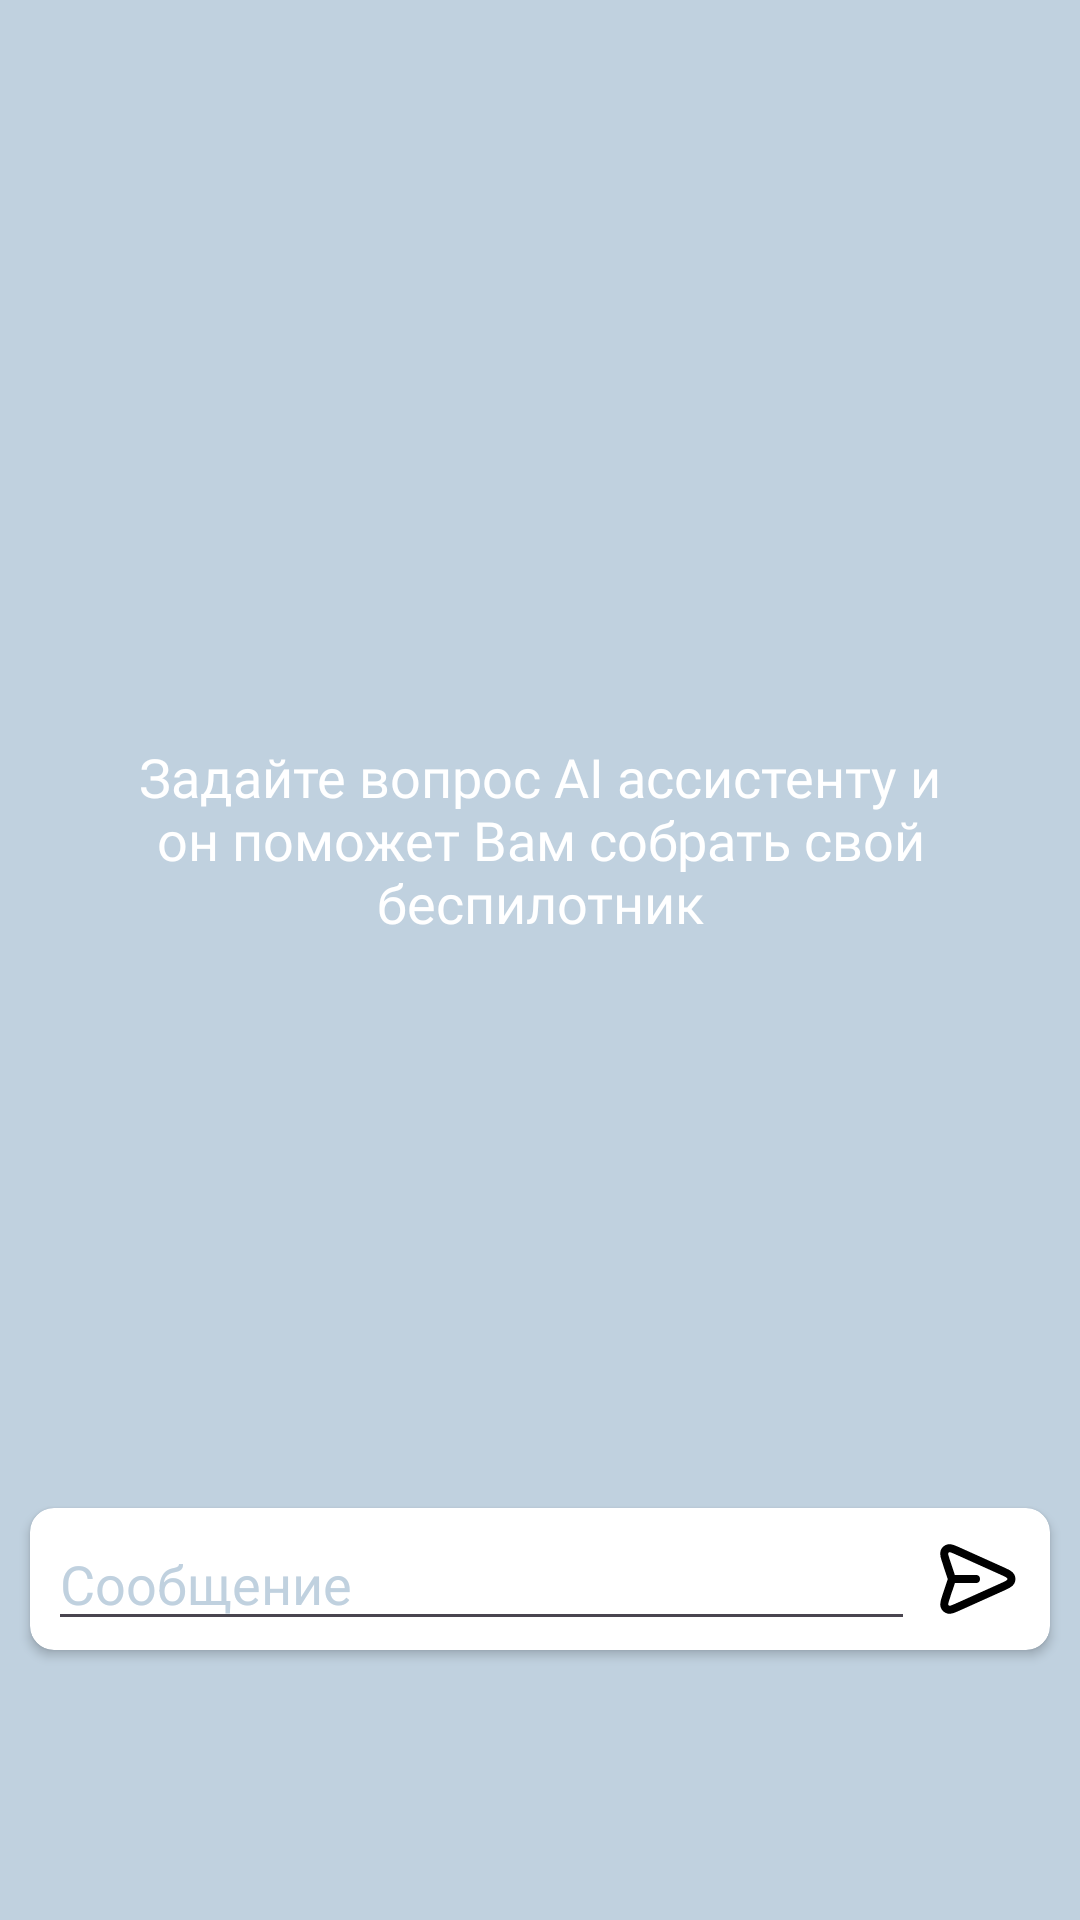

Locate icon controls on the screen. Image size 1080w x 1920h, boxes as (x1=x1, y1=y1, x2=x2, y2=y2).
send message: (x1=940, y1=1544, x2=1016, y2=1614)
